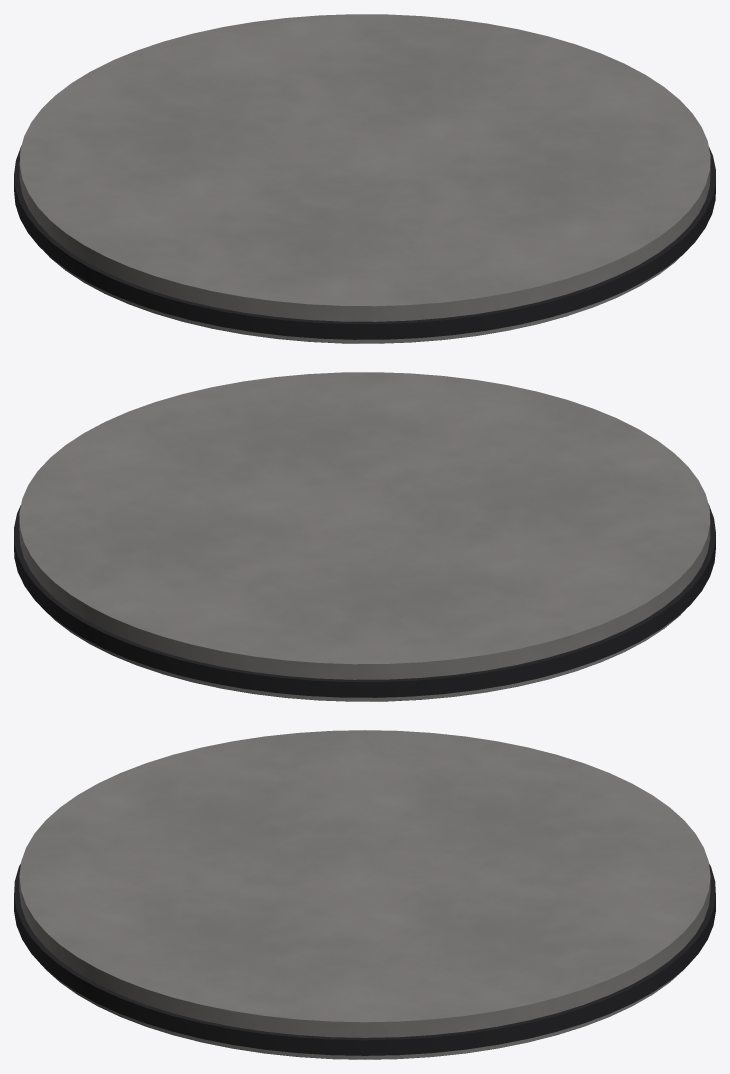
Rendered from stage05_heatshield_l.glb.
3 views of the same model, one above another, from view 1: azimuth 30°, elevation 25°; view 2: azimuth 150°, elevation 25°; view 3: azimuth 270°, elevation 25° (orthographic).
Visible parts, largest first — view 1: carrier, shoulder_band; view 2: carrier, shoulder_band; view 3: carrier, shoulder_band.
Boxes of the visible parts, bbox=[...] form: carrier: bbox=[19, 14, 710, 343]; shoulder_band: bbox=[14, 145, 715, 339]; carrier: bbox=[19, 372, 710, 701]; shoulder_band: bbox=[14, 503, 715, 697]; carrier: bbox=[19, 730, 710, 1059]; shoulder_band: bbox=[14, 863, 715, 1055].
Size of the model in its own units: 3.81 by 0.6342 by 3.81.
3 materials, 2 textured.
